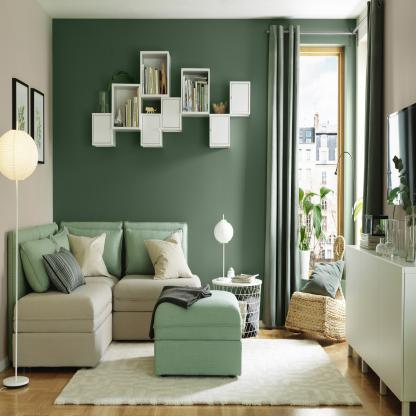bantal: (47, 249, 88, 293), (150, 237, 193, 276), (71, 236, 109, 276), (307, 261, 339, 298)
lampu: (2, 127, 32, 393)
sova: (6, 213, 197, 379)
tanaman: (300, 187, 323, 247)
tv: (385, 102, 416, 206)
